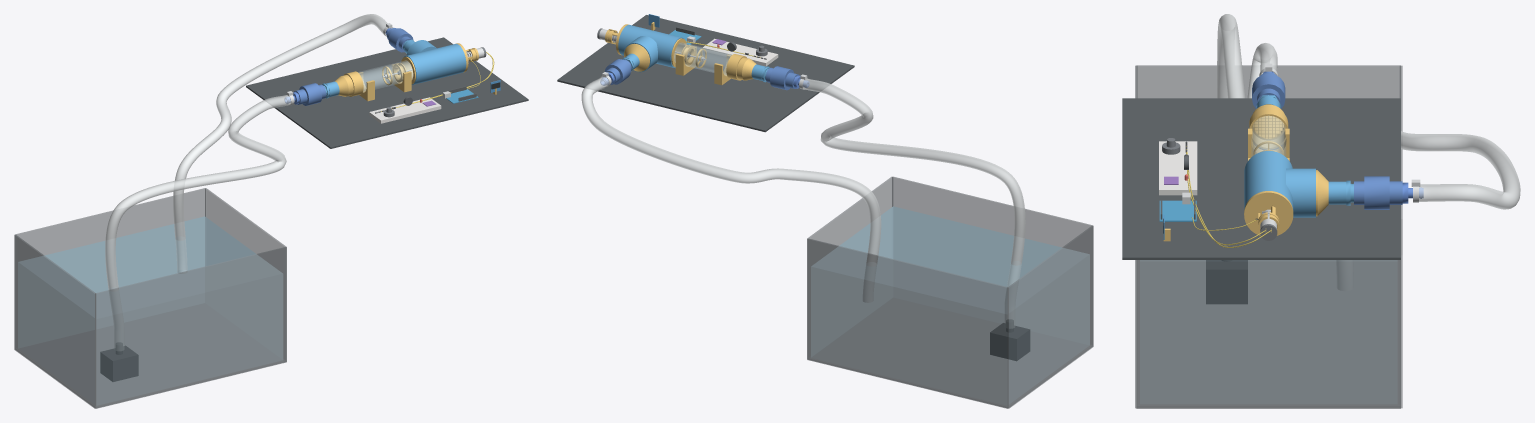
The model's file is sulog_rig.glb.
The picture shows the model from 3 angles, left to right: view 1: azimuth 30°, elevation 25°; view 2: azimuth 150°, elevation 25°; view 3: azimuth 270°, elevation 25°; orthographic projection. The views are drawn at different scales.
Visible parts, largest first — view 1: sump, lid, hoseIn, hoseOut, tee, pump, tube, breadboard, inletAd, cradles, unionIn; view 2: sump, lid, hoseIn, hoseOut, tee, pump, tube, breadboard, inletAd, cradles, unionIn; view 3: sump, lid, hoseOut, tee, hoseIn, pump, breadboard, bulkhead, unionOut, inletAd, tube, uno (+6 smaller).
Part boxes in pixels (x1,y1,x2,y2): sump: (14,188,286,408); lid: (246,37,528,148); hoseIn: (105,95,290,350); hoseOut: (173,14,391,273); tee: (403,40,466,84); pump: (100,346,138,381); tube: (358,60,413,92); breadboard: (369,97,441,123); inletAd: (335,71,363,96); cradles: (359,63,411,101); unionIn: (294,83,326,105); sump: (807,176,1093,408); lid: (557,15,854,132); hoseIn: (802,78,1025,328); hoseOut: (581,76,881,302); tee: (618,24,683,72); pump: (990,320,1029,360); tube: (674,42,731,75); breadboard: (702,38,778,66); inletAd: (726,54,756,80); cradles: (675,45,731,85); unionIn: (765,66,799,90); sump: (1135,65,1402,408); lid: (1122,98,1400,259); hoseOut: (1336,131,1520,290); tee: (1244,151,1315,217); hoseIn: (1217,14,1277,98); pump: (1206,260,1247,303); breadboard: (1159,141,1197,195); bulkhead: (1244,191,1293,235); unionOut: (1354,176,1402,209); inletAd: (1249,104,1288,149); tube: (1251,116,1285,156); uno: (1159,192,1196,221).
Bounding box in the file's own units: 1183 × 615 × 571.
Materials: 4 (4 with a texture image).
